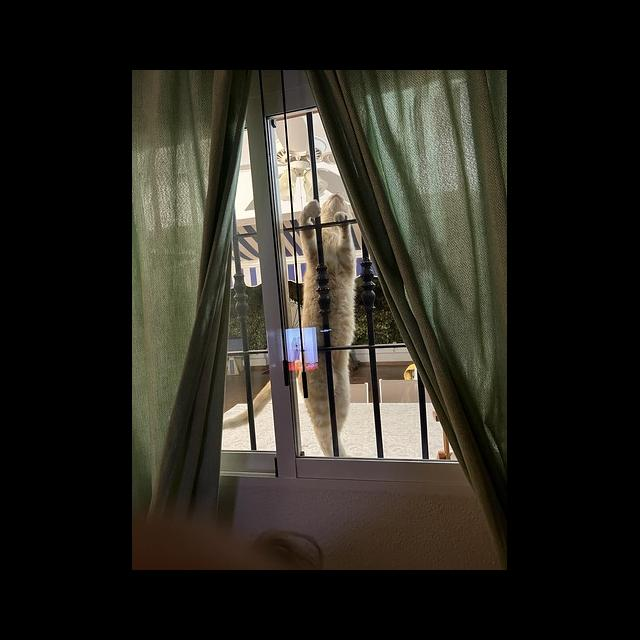animals: (295, 191, 365, 457)
